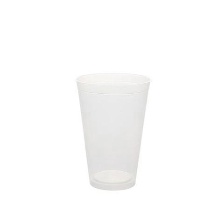glass: (70, 60, 157, 199)
